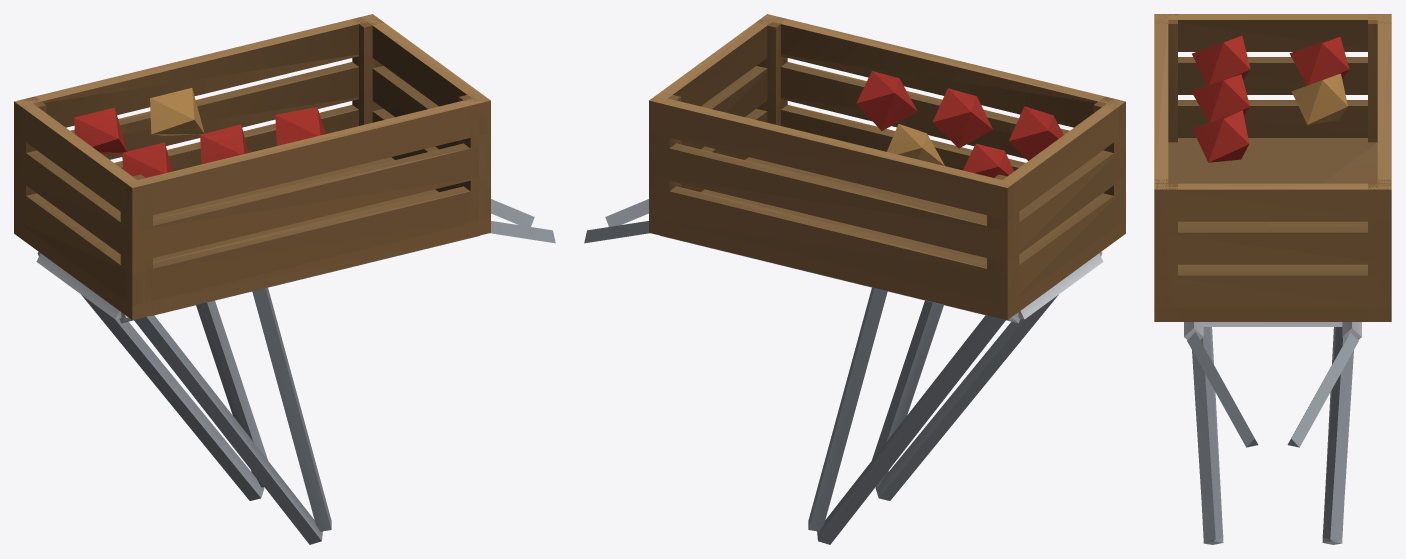
The model's file is gd_bicycle_rack.glb.
3 renders of one model, left to right at view 1: azimuth 30°, elevation 25°; view 2: azimuth 150°, elevation 25°; view 3: azimuth 270°, elevation 25°, orthographic.
Parts seen in each view (by area): view 1: base; view 2: base; view 3: base.
Boxes of the visible parts, bbox=[...] form: base: bbox=[14, 14, 555, 544]; base: bbox=[584, 14, 1125, 544]; base: bbox=[1154, 14, 1391, 544].
Bounding box in the file's own units: 0.2756 × 0.2422 × 0.12.
